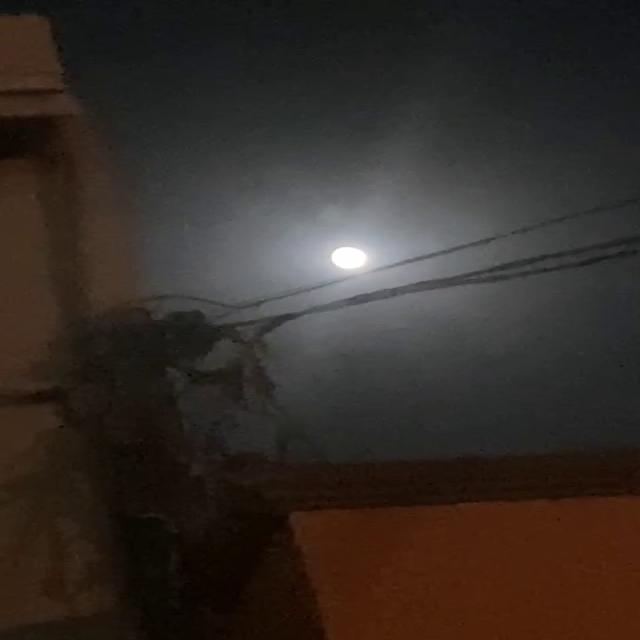moon: (307, 244, 370, 281)
